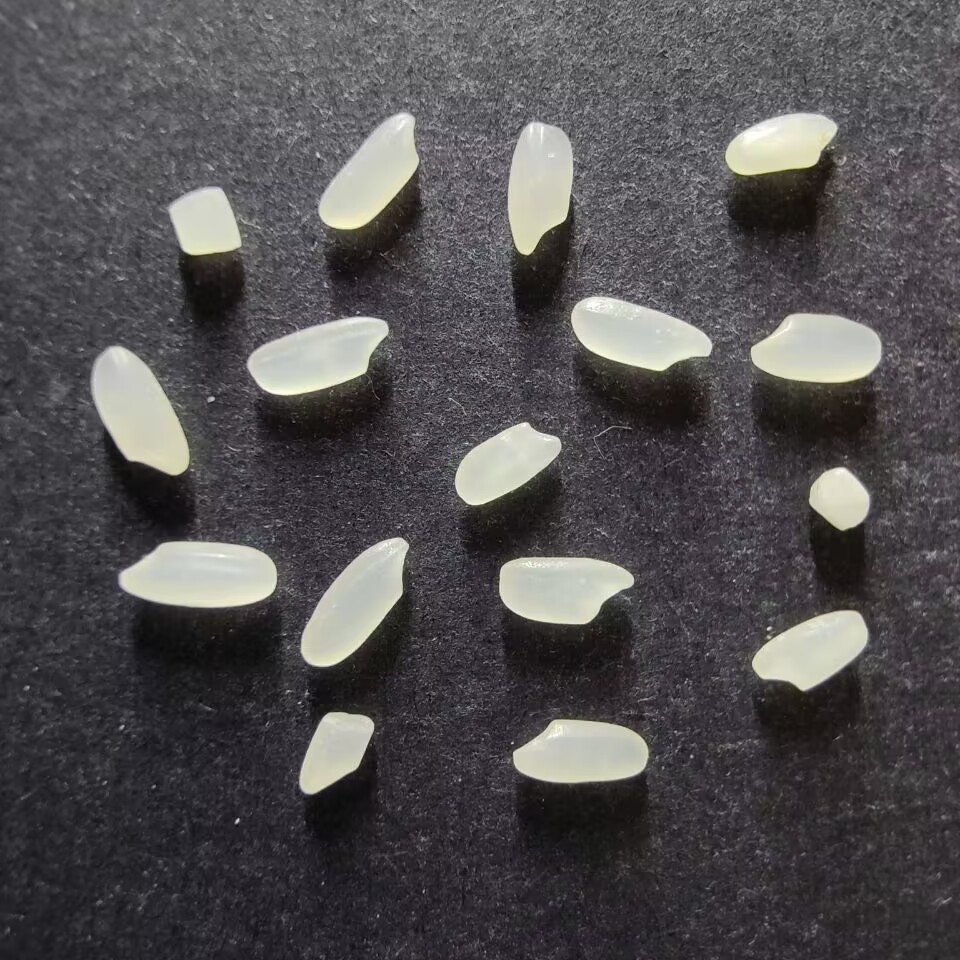broken: (297, 711, 375, 795), (167, 186, 242, 256), (807, 466, 870, 531)
rice: (299, 536, 408, 667), (89, 345, 190, 476), (317, 110, 420, 230), (246, 316, 389, 395), (117, 540, 277, 608), (569, 296, 712, 372), (751, 609, 869, 692), (497, 555, 634, 625), (749, 312, 881, 383), (453, 422, 561, 505), (506, 122, 573, 255), (511, 718, 648, 783), (724, 112, 837, 176)
